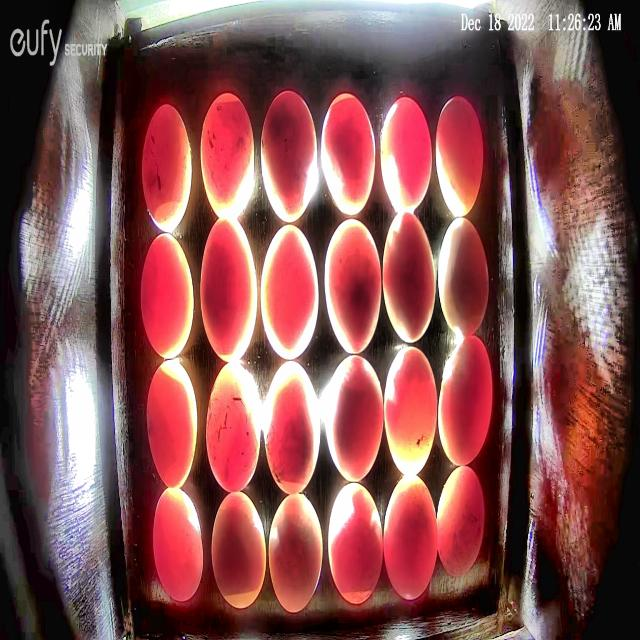FE: (260, 223, 320, 361), (200, 219, 256, 362), (324, 218, 382, 356), (264, 361, 321, 495), (261, 89, 318, 222), (205, 362, 261, 494), (382, 210, 436, 345), (383, 344, 437, 476), (438, 335, 492, 467), (329, 356, 384, 482), (200, 92, 254, 220), (383, 474, 438, 599), (327, 481, 383, 603), (321, 93, 376, 217), (210, 490, 267, 608), (146, 360, 198, 489), (141, 234, 194, 359), (142, 103, 192, 234), (268, 494, 323, 613), (380, 97, 432, 215), (438, 217, 489, 336), (152, 486, 204, 602), (436, 96, 484, 216), (436, 464, 484, 576)
